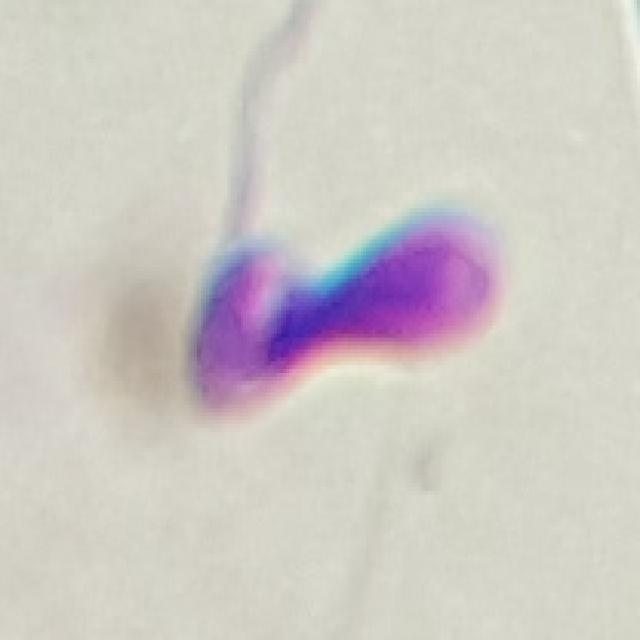abnormal sperm: (181, 4, 507, 413)
